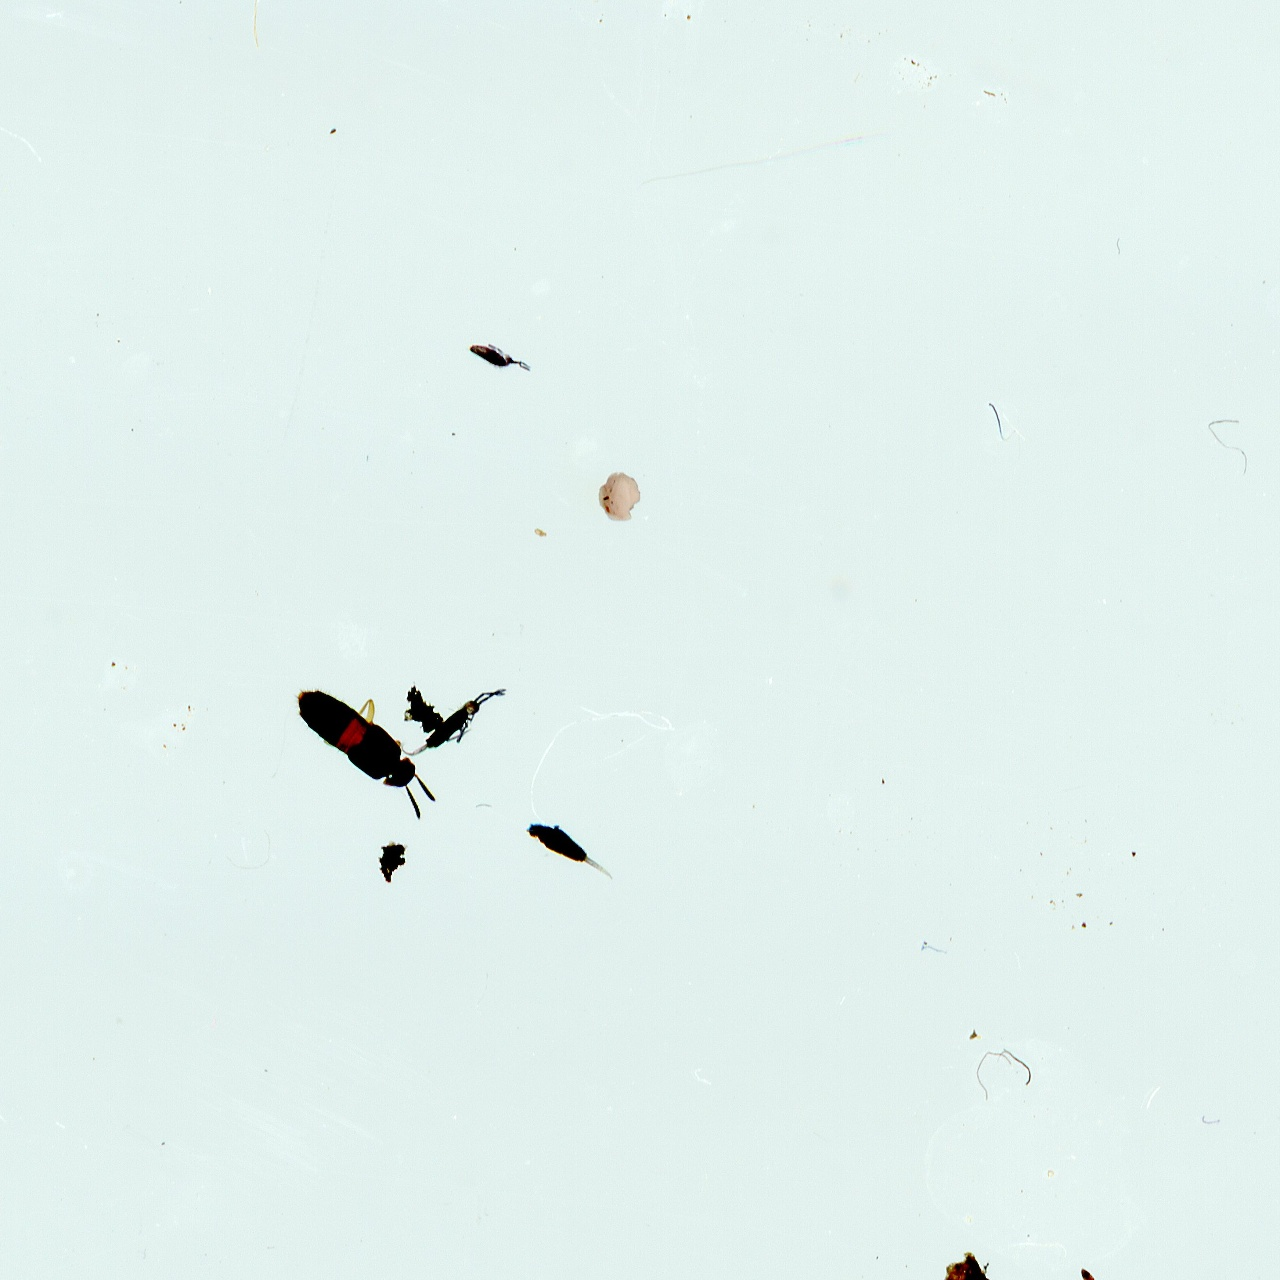arthropod: (270, 653, 468, 840), (398, 658, 513, 782), (509, 807, 633, 892), (464, 337, 537, 378)
